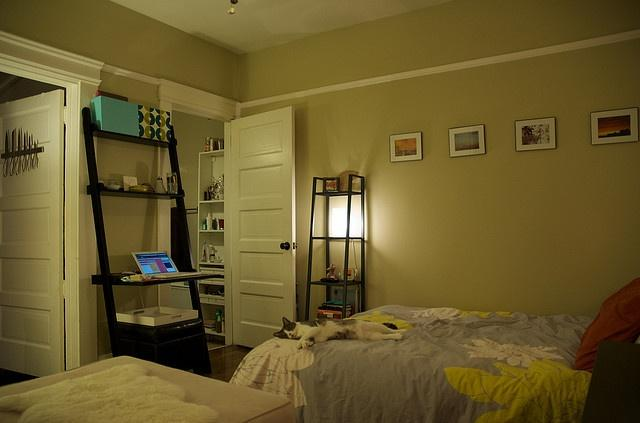Rak: (303, 173, 365, 321), (196, 148, 225, 335)
